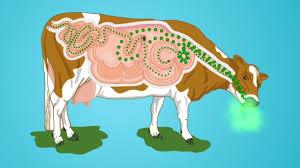cow: (41, 11, 268, 147)
